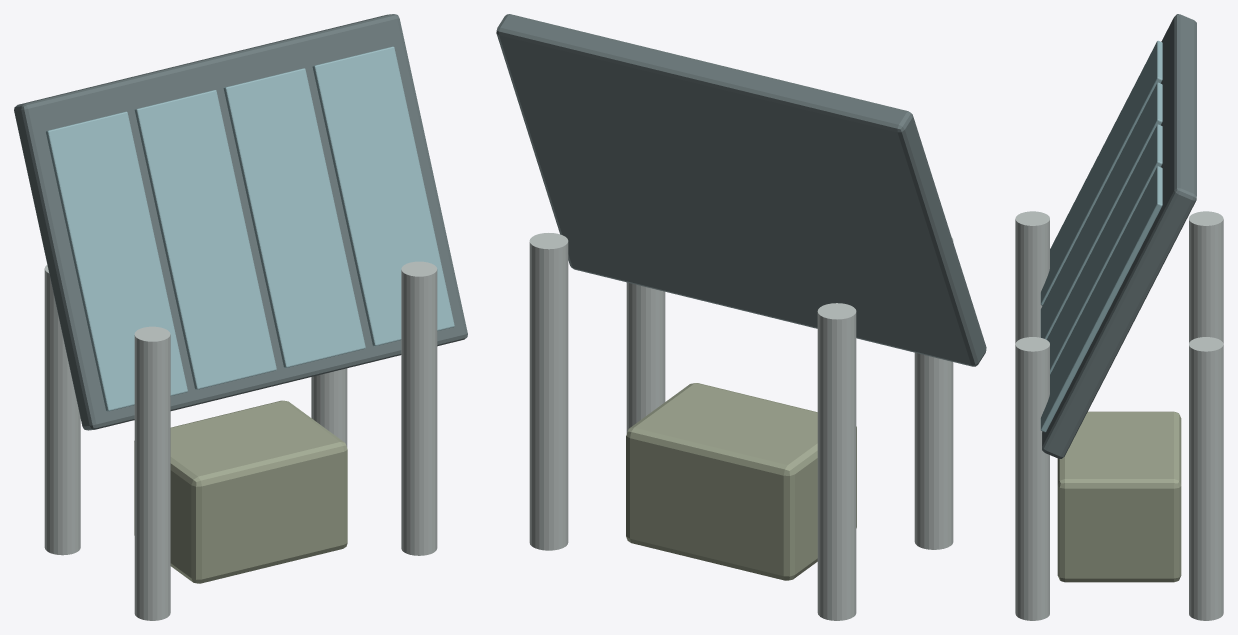
The picture shows the model from 3 angles, left to right: view 1: azimuth 30°, elevation 25°; view 2: azimuth 150°, elevation 25°; view 3: azimuth 270°, elevation 25°; orthographic projection. The views are drawn at different scales.
Visible parts, largest first — view 1: solar panel, battery, solar cells.002, solar cells.001, solar cells.003, solar cells, support.002, support, support.001, support.003; view 2: solar panel, battery, support.003, support.001, support, support.002; view 3: battery, solar panel, support.003, support.002, solar cells.003, solar cells.001, solar cells, solar cells.002, support.001, support.
Boxes of the visible parts, box(x1,y1,x2,y2) form: solar panel: box(14, 14, 467, 430); battery: box(134, 400, 347, 583); solar cells.002: box(223, 68, 365, 367); solar cells.001: box(134, 90, 276, 389); solar cells.003: box(312, 46, 454, 346); solar cells: box(46, 111, 187, 411); support.002: box(401, 261, 437, 555); support: box(134, 326, 170, 620); support.001: box(44, 265, 80, 555); support.003: box(311, 368, 347, 447); solar panel: box(496, 14, 986, 366); battery: box(626, 383, 856, 580); support.003: box(529, 233, 568, 550); support.001: box(817, 303, 856, 620); support: box(914, 237, 953, 549); support.002: box(626, 282, 665, 433); battery: box(1057, 411, 1181, 582); solar panel: box(1042, 14, 1196, 458); support.003: box(1189, 337, 1223, 620); support.002: box(1015, 337, 1049, 620); solar cells.003: box(1040, 166, 1162, 432); solar cells.001: box(1040, 82, 1162, 339); solar cells: box(1040, 40, 1162, 305); solar cells.002: box(1046, 124, 1162, 374); support.001: box(1189, 211, 1223, 343); support: box(1015, 211, 1049, 343).
Bounding box in the file's own units: 0.85 × 1 × 0.42.
